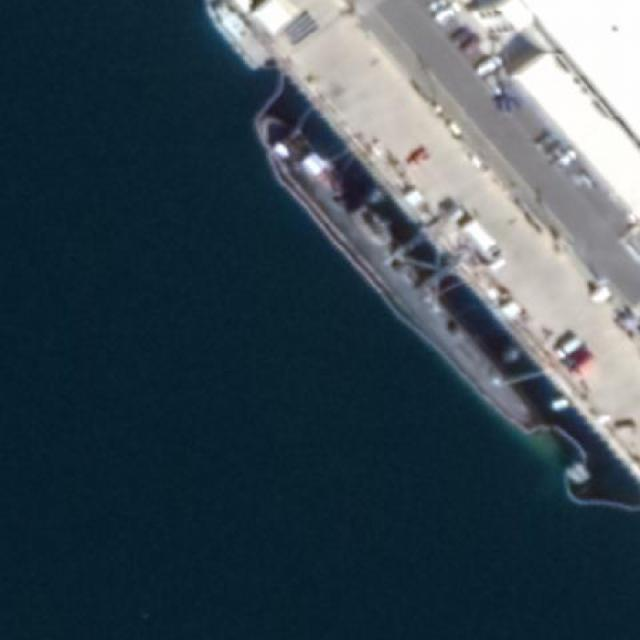Submarine: (243, 106, 550, 458)
